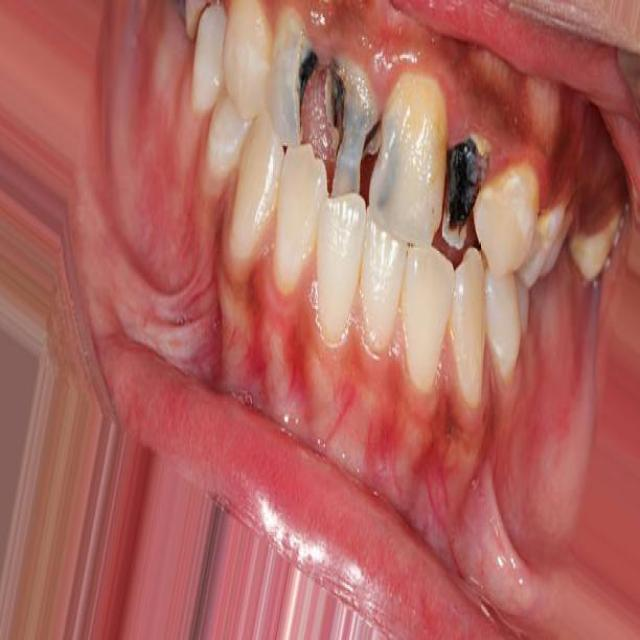caries: (321, 47, 373, 206), (432, 105, 489, 250), (279, 8, 316, 152), (363, 94, 405, 220)
